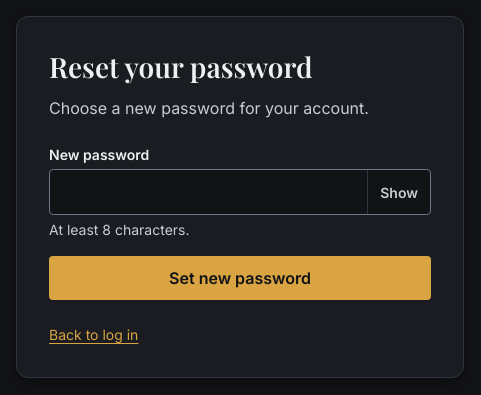
Test: reset password view › sets a new password from the emailed link
The image size is (481, 395).
Type "brand-new-pass-3" into the password field labelled "New password" at (209, 192), box top-left (50, 170), bottom-right (367, 214)
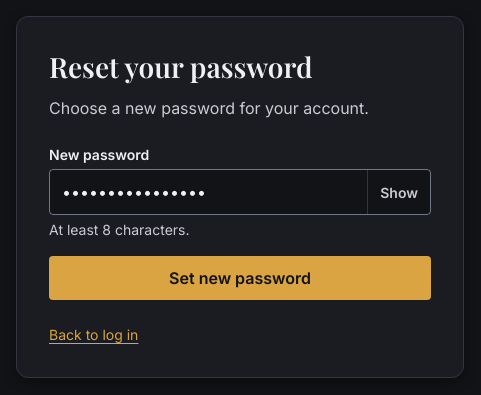
Submit the form, box top-left (49, 144), bottom-right (431, 300)
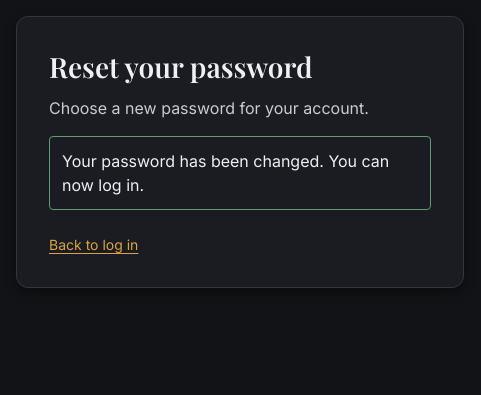
Expected: the link to "/login" is shown, top-left (49, 236), bottom-right (138, 253)
Expected: the message "Your password has been changed. You can now log in." is shown, top-left (49, 136), bottom-right (431, 210)
